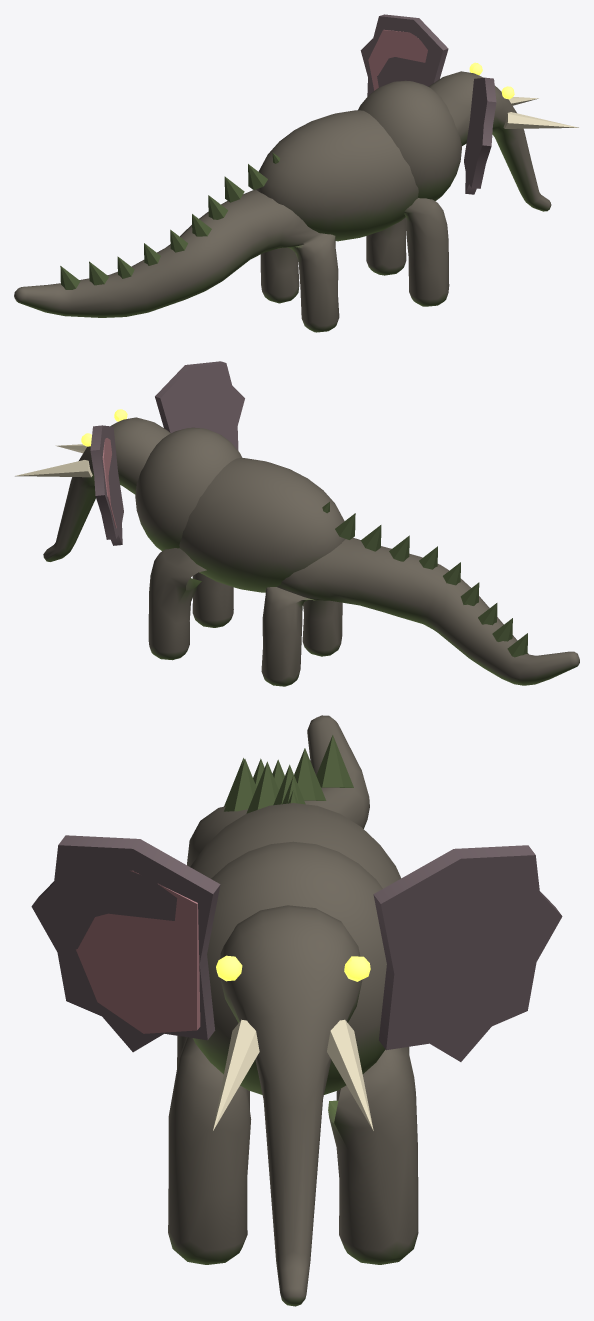
The model's file is grootslang.glb.
The picture shows the model from 3 angles, top to bottom: view 1: azimuth 30°, elevation 25°; view 2: azimuth 150°, elevation 25°; view 3: azimuth 270°, elevation 25°; orthographic projection. The views are drawn at different scales.
Parts seen in each view (by area): view 1: grootslang.001; view 2: grootslang.001; view 3: grootslang.001.
Boxes of the visible parts, x1,y1,x2,y2 form: grootslang.001: [14, 14, 579, 332]; grootslang.001: [15, 361, 579, 686]; grootslang.001: [31, 715, 562, 1306].
Size of the model in its own units: 4.64 by 1.89 by 1.99.
